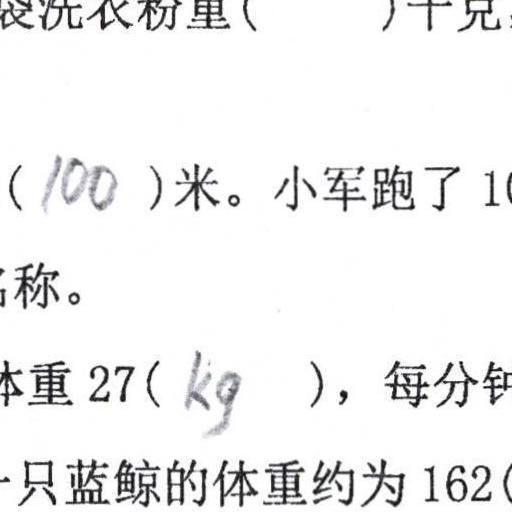ans: (178, 344, 242, 437), (38, 146, 118, 214)
